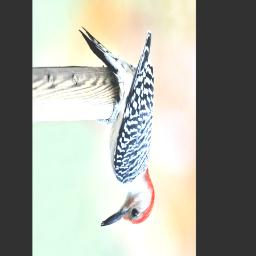Woodpecker: (73, 12, 162, 236)
